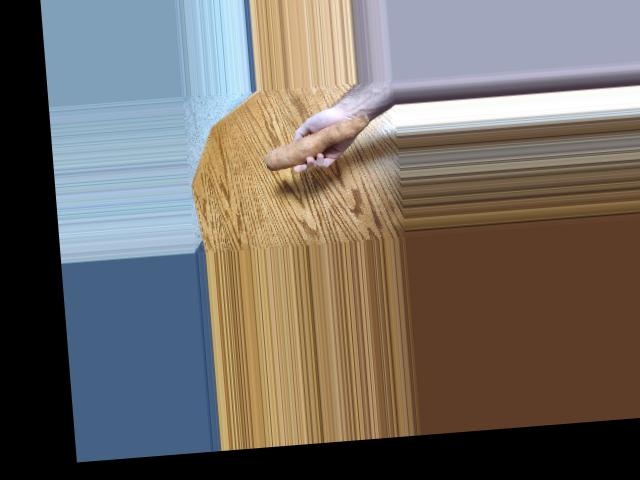sweet_potato: (260, 113, 370, 173)
